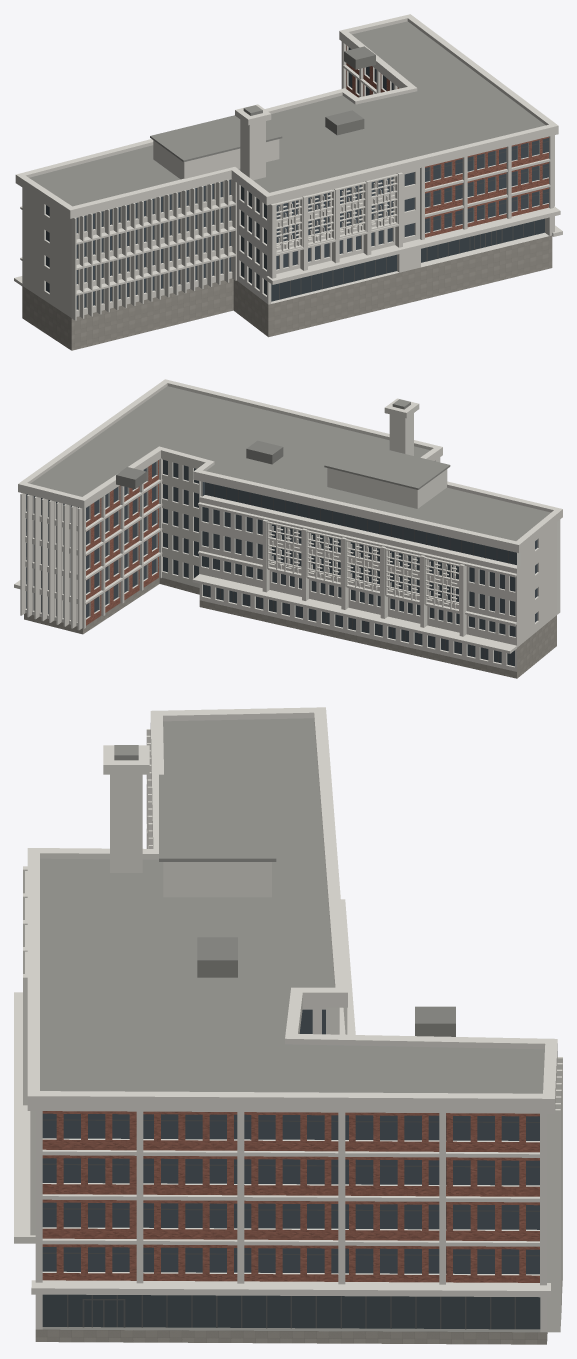
The picture shows the model from 3 angles, top to bottom: view 1: azimuth 30°, elevation 25°; view 2: azimuth 150°, elevation 25°; view 3: azimuth 270°, elevation 25°; orthographic projection. The views are drawn at different scales.
Parts seen in each view (by area): view 1: facultyHall__white, facultyHall__roof, facultyHall__base, facultyHall__glass, facultyHall__brick, facultyHall__glass_shop, facultyHall__slab, facultyHall__frame; view 2: facultyHall__white, facultyHall__roof, facultyHall__glass, facultyHall__base, facultyHall__brick, facultyHall__slab, facultyHall__frame; view 3: facultyHall__roof, facultyHall__white, facultyHall__brick, facultyHall__glass, facultyHall__glass_shop, facultyHall__base, facultyHall__slab, facultyHall__frame.
Part boxes in pixels (x1=…): facultyHall__white: x1=14, y1=14, x2=562, y2=320; facultyHall__roof: x1=29, y1=21, x2=545, y2=206; facultyHall__base: x1=22, y1=235, x2=552, y2=350; facultyHall__glass: x1=46, y1=47, x2=548, y2=309; facultyHall__brick: x1=346, y1=45, x2=548, y2=237; facultyHall__glass_shop: x1=271, y1=218, x2=544, y2=301; facultyHall__slab: x1=325, y1=46, x2=375, y2=135; facultyHall__frame: x1=279, y1=141, x2=548, y2=299; facultyHall__white: x1=14, y1=379, x2=562, y2=671; facultyHall__roof: x1=30, y1=386, x2=550, y2=540; facultyHall__glass: x1=26, y1=459, x2=537, y2=666; facultyHall__base: x1=24, y1=578, x2=556, y2=678; facultyHall__brick: x1=86, y1=460, x2=158, y2=625; facultyHall__slab: x1=116, y1=440, x2=283, y2=488; facultyHall__frame: x1=207, y1=484, x2=511, y2=665; facultyHall__roof: x1=40, y1=718, x2=544, y2=1093; facultyHall__white: x1=14, y1=707, x2=562, y2=1332; facultyHall__brick: x1=42, y1=1111, x2=539, y2=1282; facultyHall__glass: x1=42, y1=1009, x2=539, y2=1274; facultyHall__glass_shop: x1=42, y1=1294, x2=540, y2=1329; facultyHall__base: x1=35, y1=1329, x2=547, y2=1344; facultyHall__slab: x1=42, y1=937, x2=540, y2=1332; facultyHall__frame: x1=42, y1=1119, x2=539, y2=1329.
Size of the model in its own units: 68.84 by 29.15 by 40.32.
8 materials, 2 textured.
